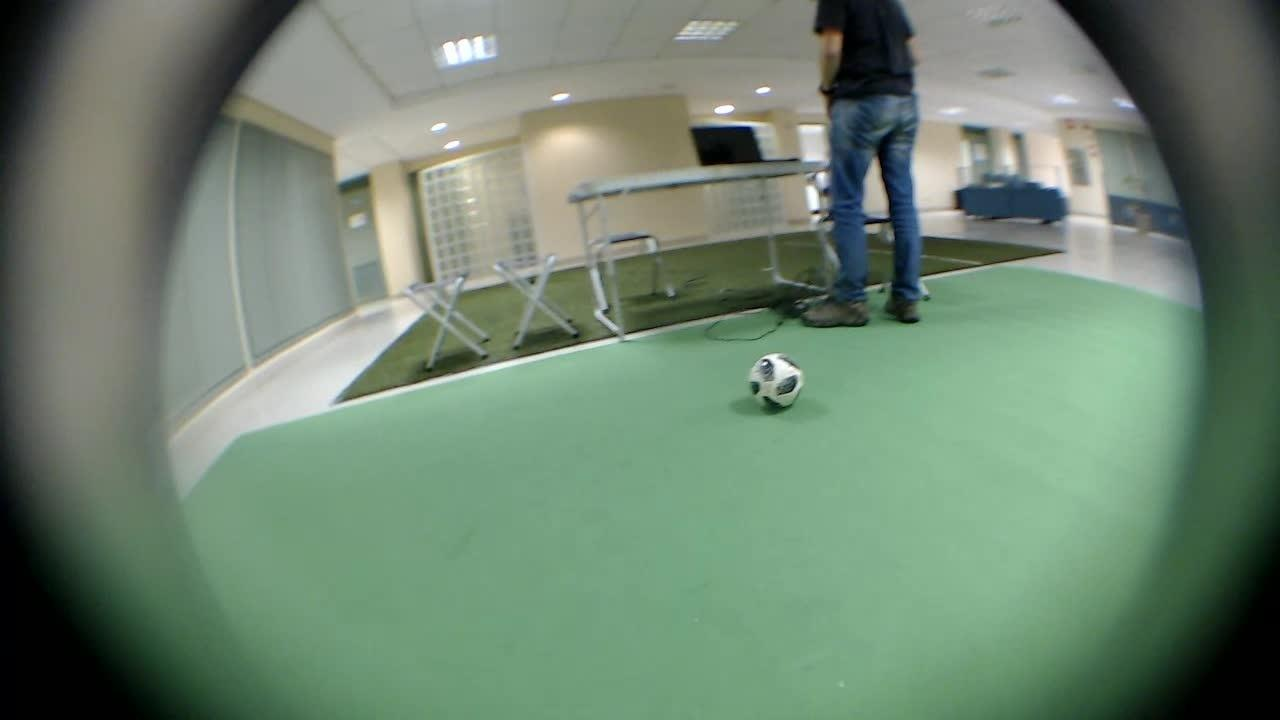ball: (734, 332, 814, 419)
